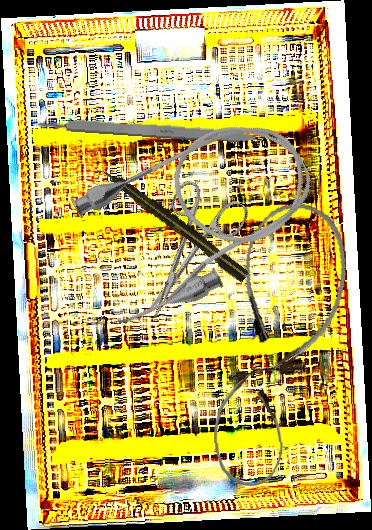Cannula: (56, 93, 338, 339), (228, 196, 356, 383), (211, 368, 285, 488)
Handpiece: (94, 160, 251, 285)
Iris Scissors: (116, 173, 252, 333)
Scalpel Handle: (34, 114, 265, 145)
